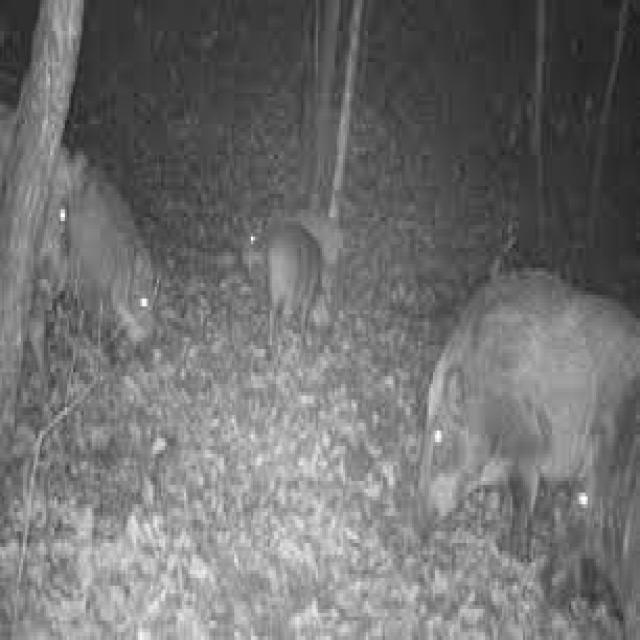boar: (387, 210, 640, 625), (31, 96, 187, 418)
